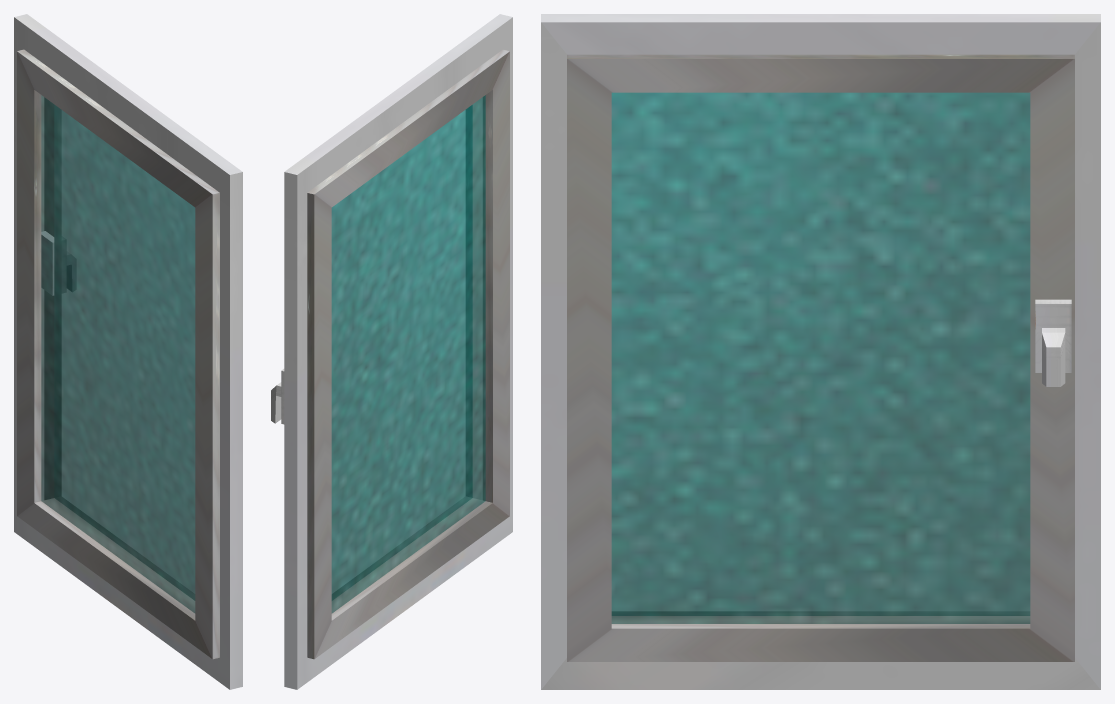
The model's file is window1.FBX.
3 renders of one model, left to right at view 1: azimuth 30°, elevation 25°; view 2: azimuth 150°, elevation 25°; view 3: azimuth 270°, elevation 25°, orthographic. The views are drawn at different scales.
Visible parts, largest first — view 1: Object003, Box002, Object004, Box003; view 2: Object003, Box002, Object004, Object001; view 3: Object003, Box002, Object004, Box003, Object001.
Boxes of the visible parts, x1,y1,x2,y2 form: Object003: [41, 95, 195, 612]; Box002: [17, 49, 219, 659]; Object004: [14, 14, 242, 689]; Box003: [41, 231, 66, 295]; Object003: [331, 95, 485, 613]; Box002: [307, 49, 509, 659]; Object004: [284, 14, 512, 689]; Object001: [271, 382, 281, 423]; Object003: [611, 92, 1030, 623]; Box002: [567, 54, 1074, 661]; Object004: [541, 14, 1100, 689]; Box003: [1035, 299, 1071, 372]; Object001: [1042, 328, 1065, 386].
Bounding box in the file's own units: 17.92 × 181 × 137.
4 materials, 4 textured.
